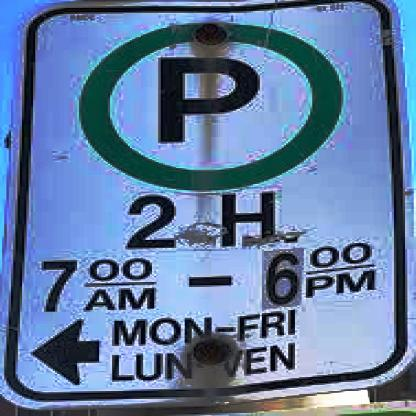Parking: (78, 18, 367, 184)
